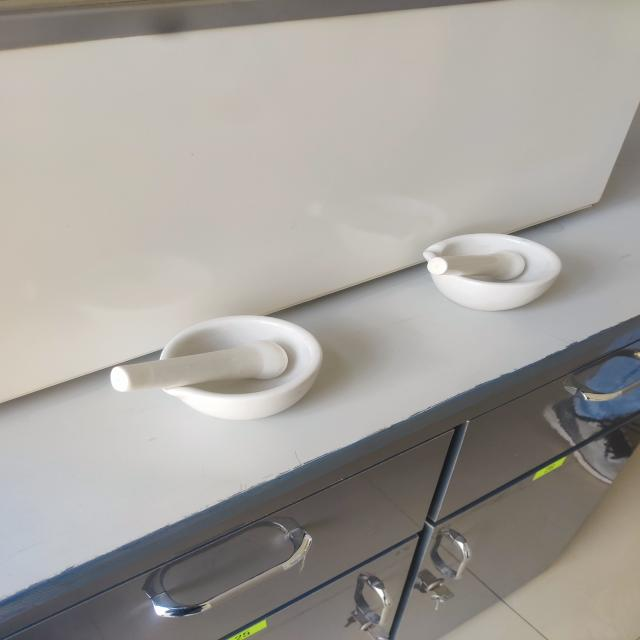Porcelain_Mortar Pestle: (92, 288, 343, 440), (397, 204, 589, 328)
